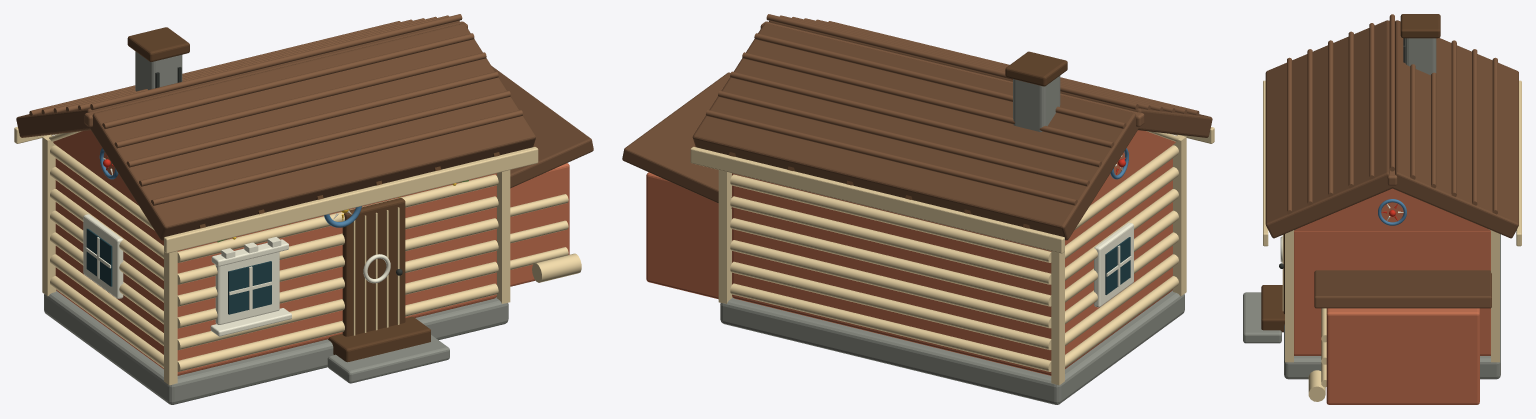
The model's file is house_red.glb.
3 views of the same model, side by side, from view 1: azimuth 30°, elevation 25°; view 2: azimuth 150°, elevation 25°; view 3: azimuth 270°, elevation 25° (orthographic). The views are drawn at different scales.
Visible parts, largest first — view 1: house_red; view 2: house_red; view 3: house_red.
Part boxes in pixels (left/top/right/bottom): house_red: left=14, top=14, right=593, bottom=404; house_red: left=622, top=14, right=1214, bottom=404; house_red: left=1243, top=14, right=1521, bottom=404.
Size of the model in its own units: 8.4 by 5.07 by 5.18.
